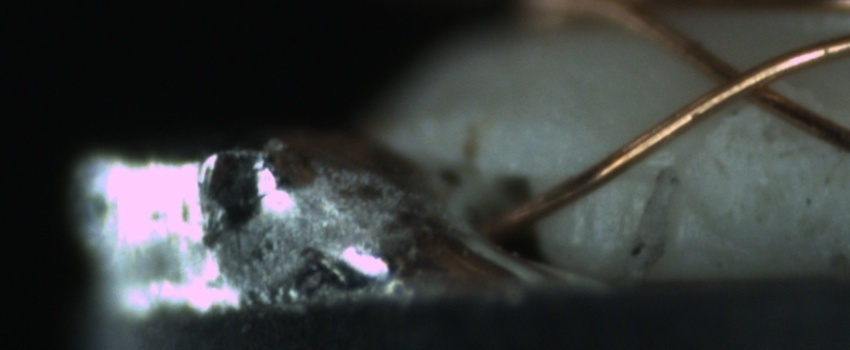CL: (696, 49, 797, 114)
